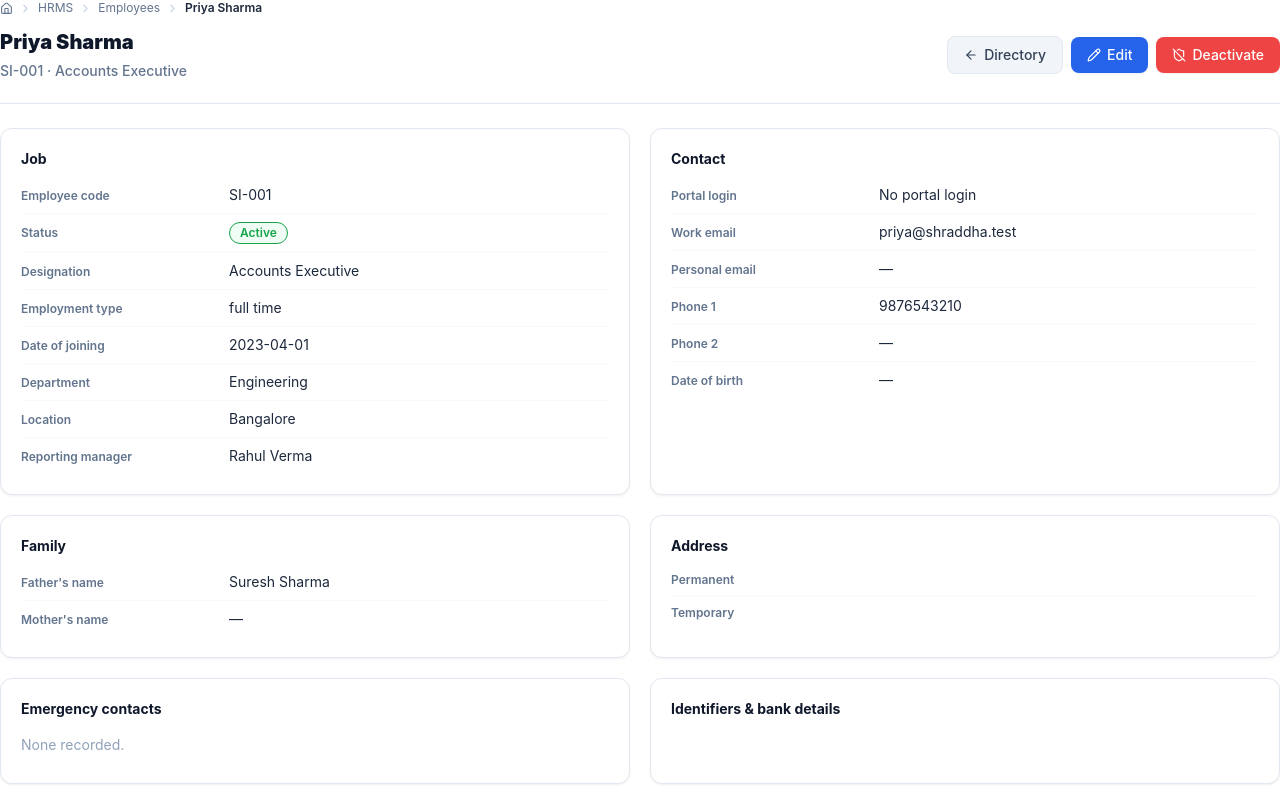
employee profile › confirms before deactivating, and says what is kept
The width and height of the screenshot is (1280, 800).
Click the button "Deactivate": (1218, 55) [1156,37,1279,73]
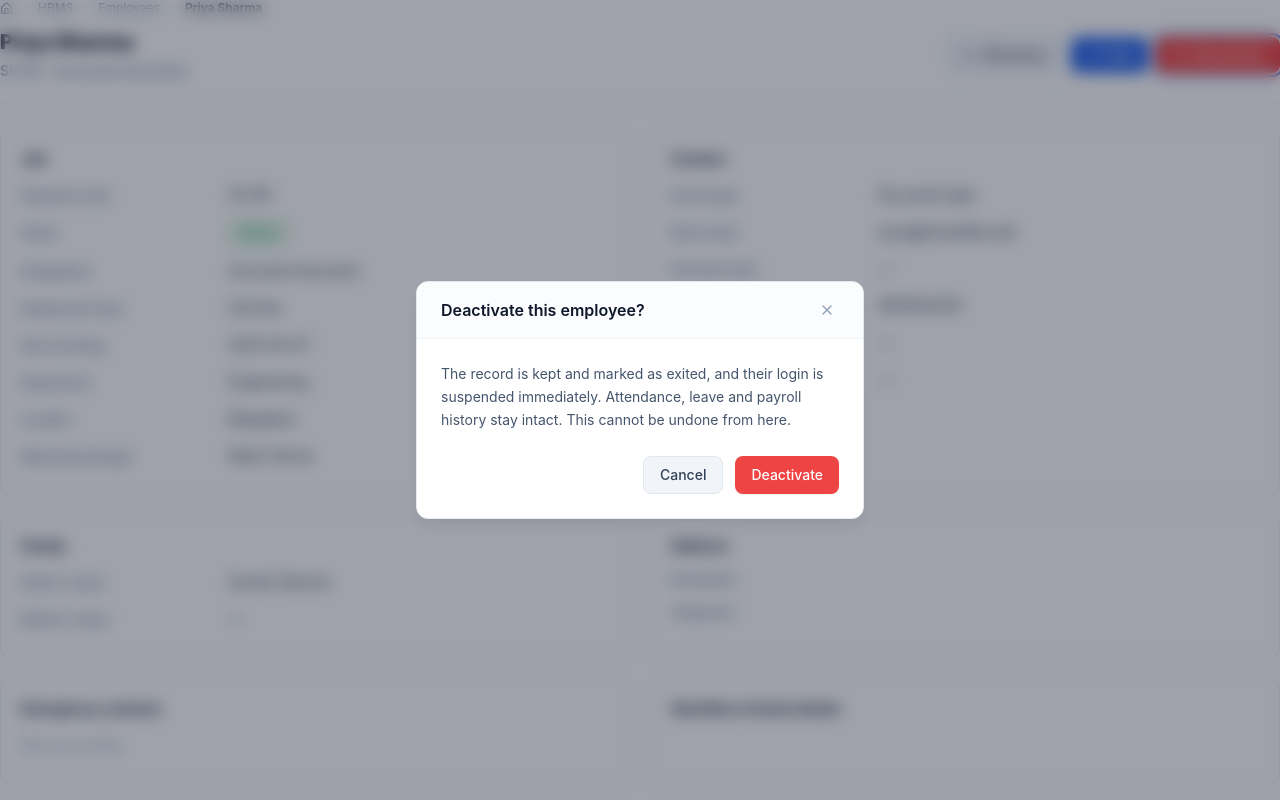
Now the heading "Deactivate this employee?" is shown, box [441,298,645,322]
Now the text "Attendance, leave and payroll history stay intact" is shown, box [441,365,823,428]
